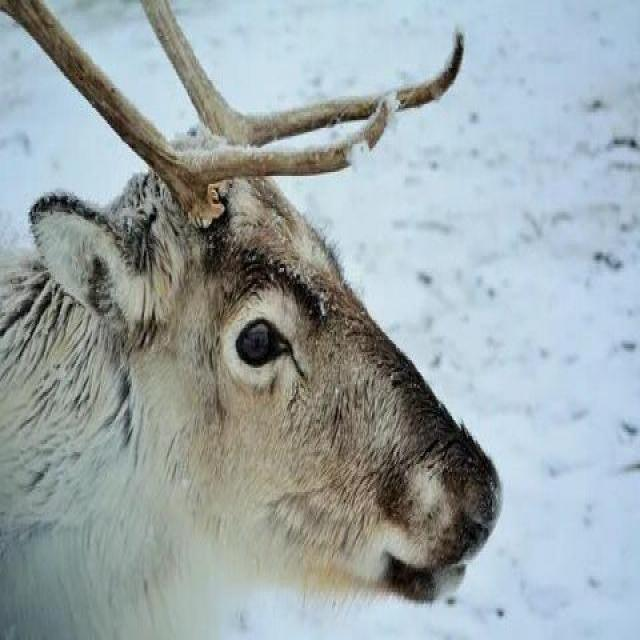deer: (37, 89, 421, 579)
